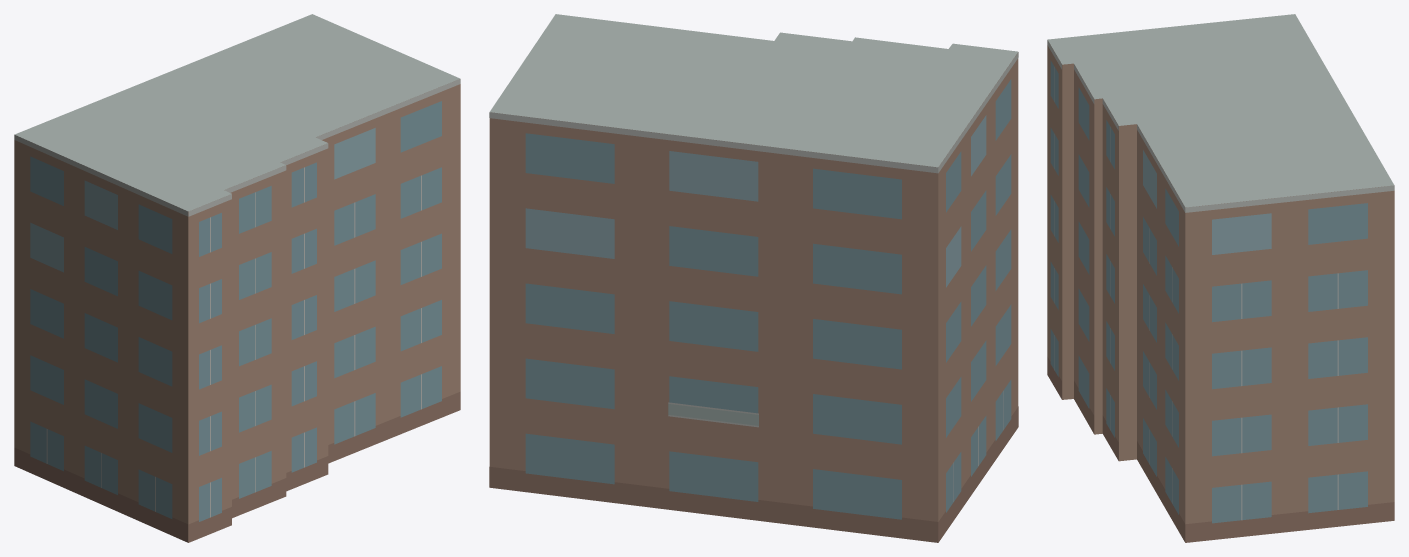
Rendered from survey-upis-32922359.glb.
3 renders of one model, left to right at view 1: azimuth 30°, elevation 25°; view 2: azimuth 150°, elevation 25°; view 3: azimuth 270°, elevation 25°, orthographic. The views are drawn at different scales.
Parts seen in each view (by area): view 1: survey-upis-32922359.tmp; view 2: survey-upis-32922359.tmp; view 3: survey-upis-32922359.tmp.
Boxes of the visible parts, box(x1,y1,x2,y2) form: survey-upis-32922359.tmp: box(14, 14, 460, 542); survey-upis-32922359.tmp: box(489, 14, 1018, 542); survey-upis-32922359.tmp: box(1047, 14, 1394, 542).
Bounding box in the file's own units: 18.95 × 15.3 × 14.36.
